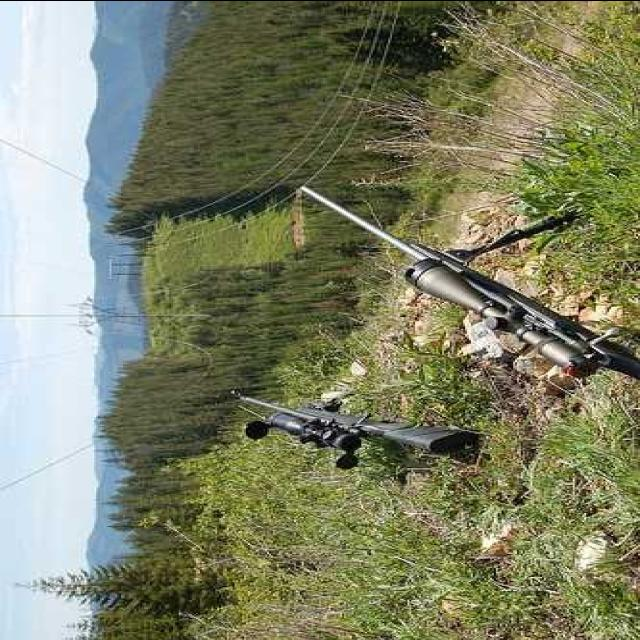heavyweapon: (289, 173, 640, 367), (209, 384, 493, 480)
